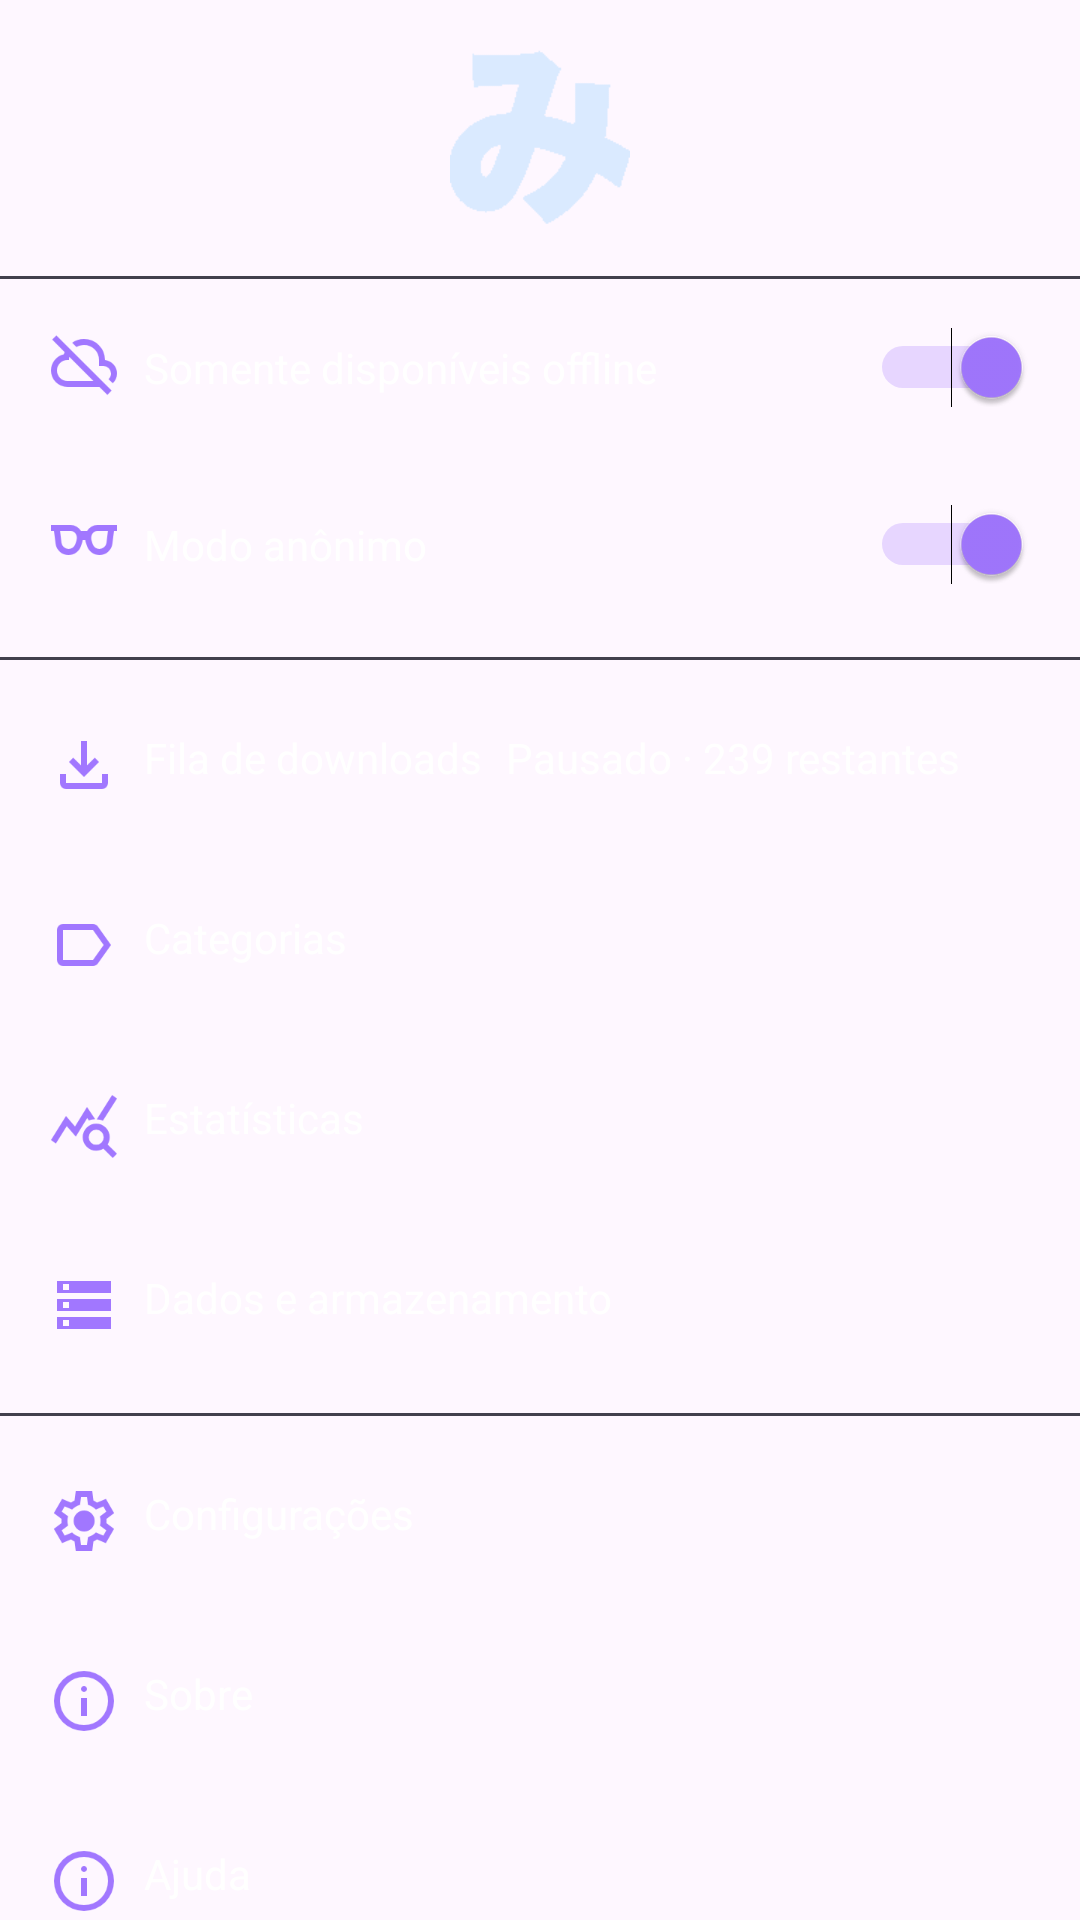

Point at icon controls on the screen. Image size 1080px×1920px, points as point (x, y).
anonimo: point (84, 540)
caregorias: point (84, 945)
configuracoes: point (84, 1521)
estatistica: point (84, 1126)
